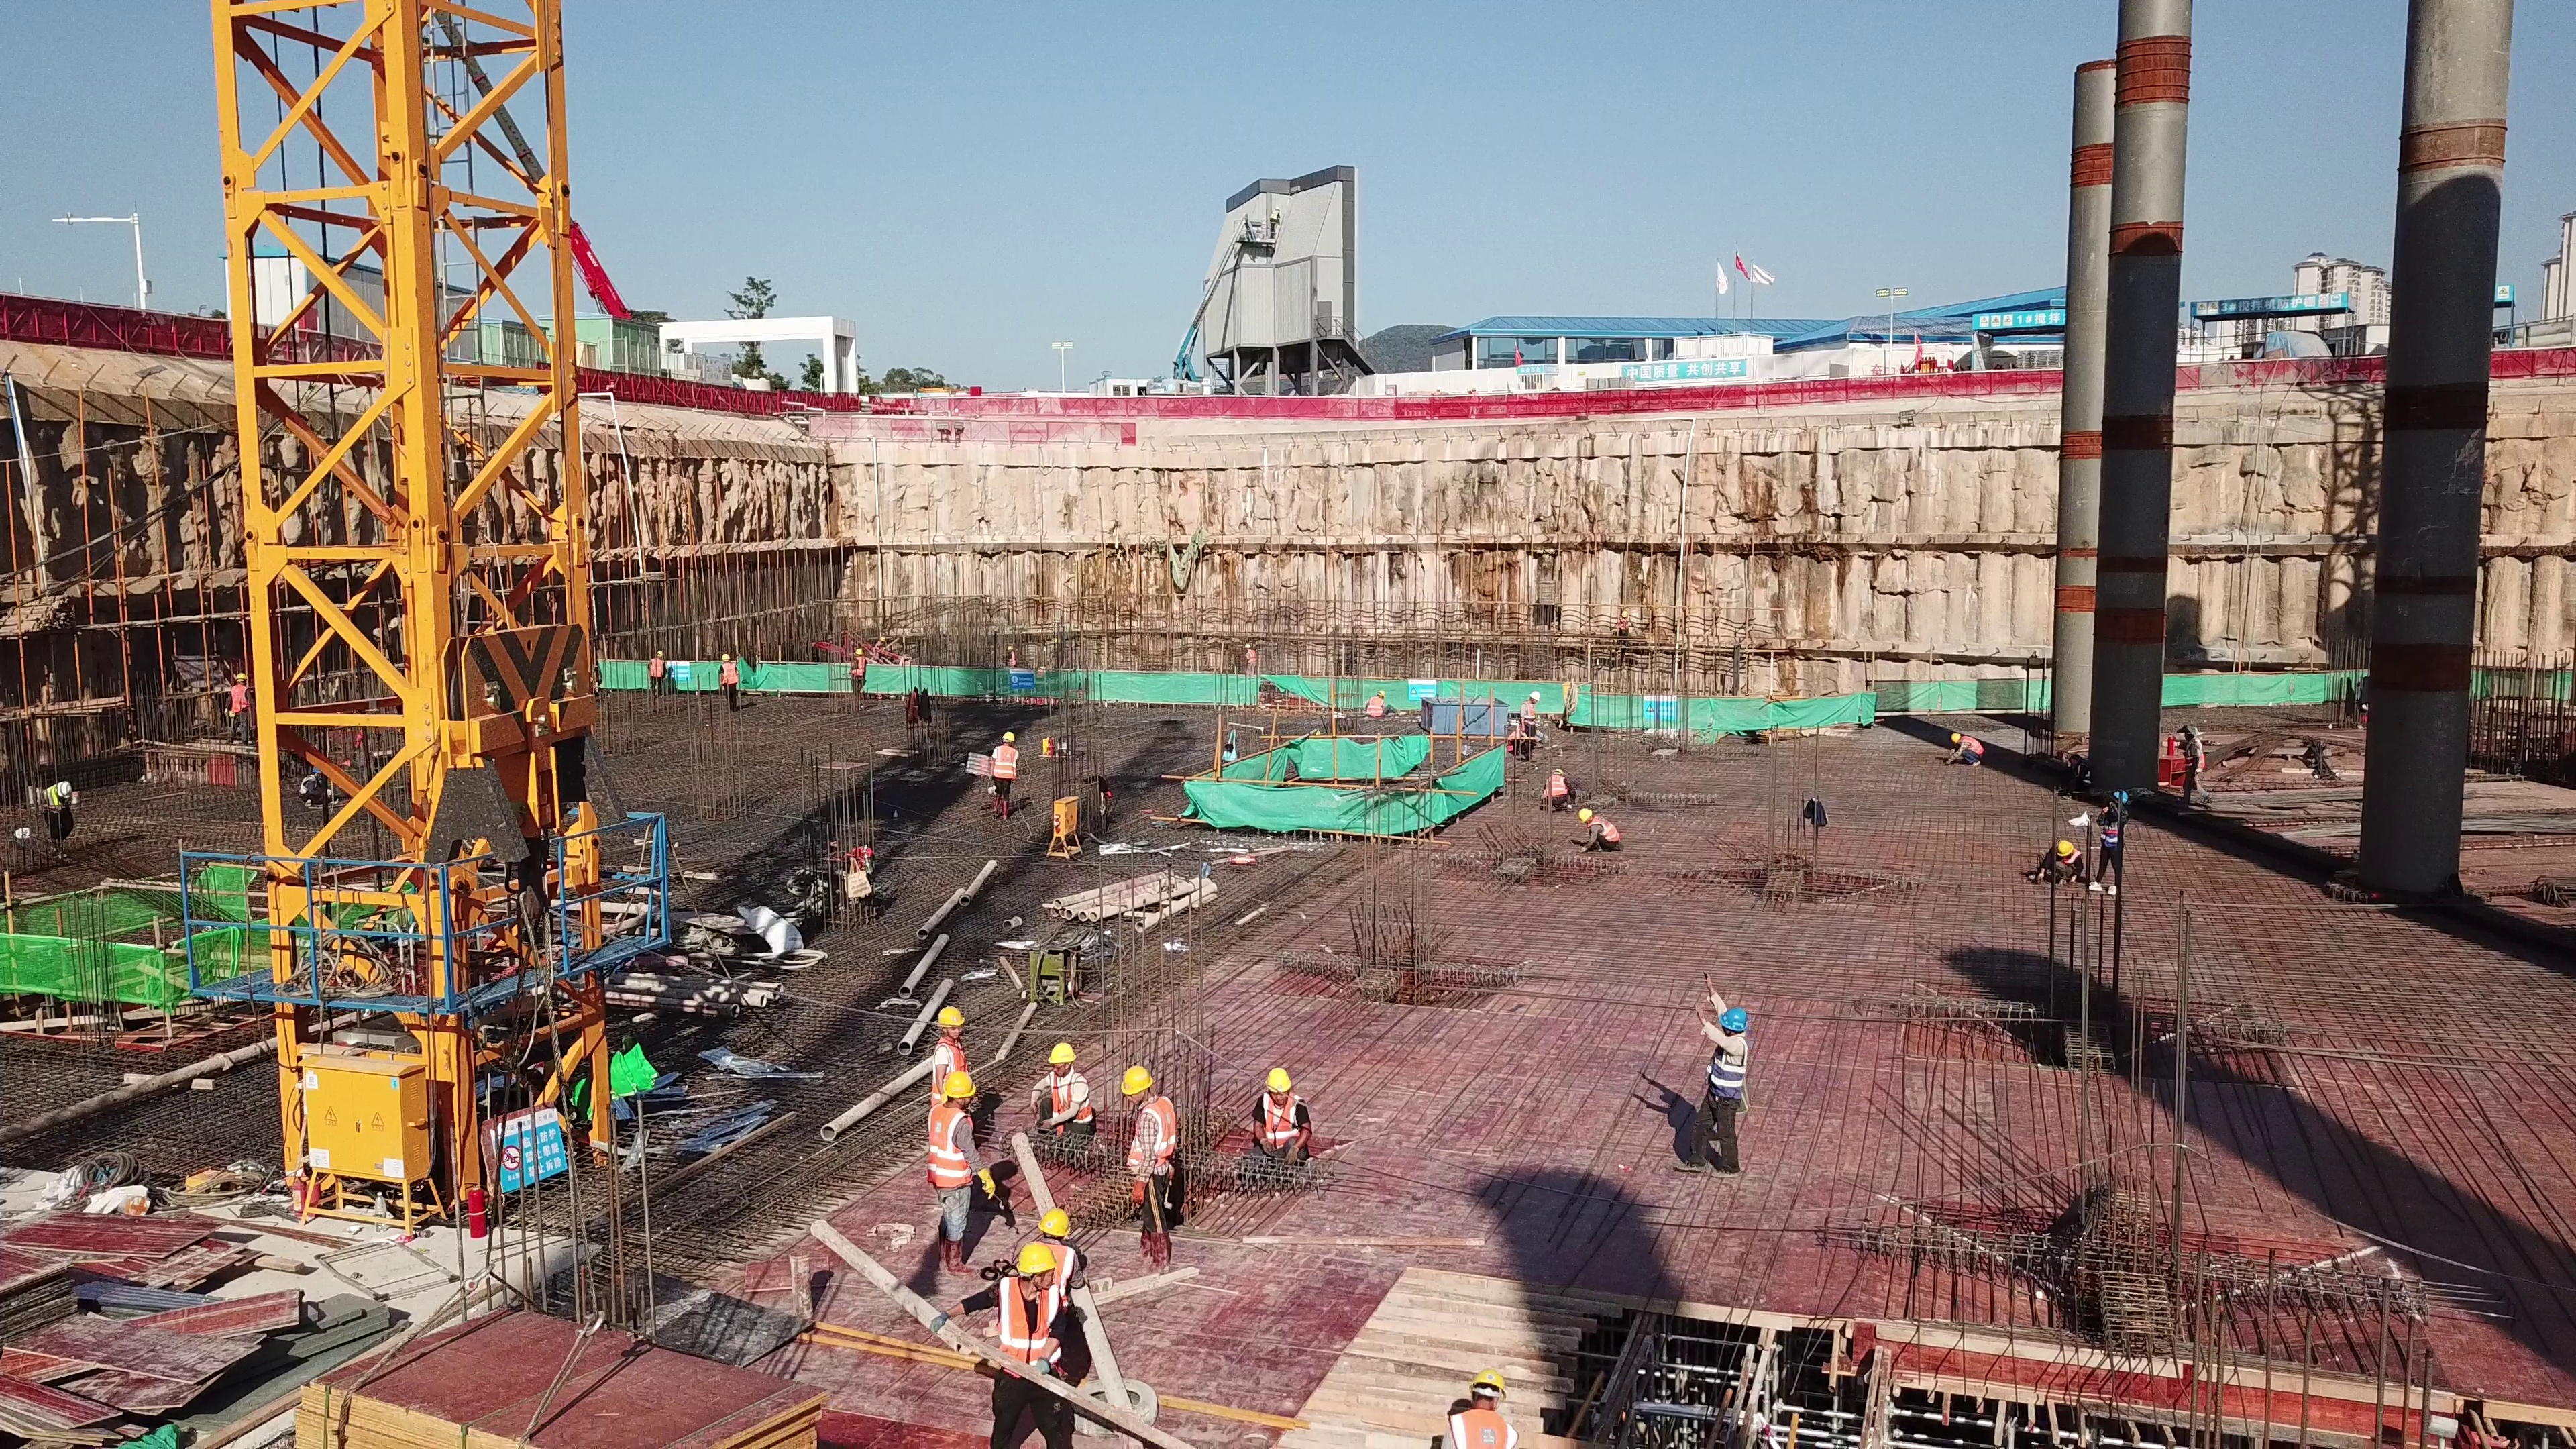board: (320, 1304, 845, 1449), (11, 1193, 280, 1435)
brick: (1585, 374, 1638, 394)
ebox: (280, 1038, 441, 1216), (1043, 794, 1081, 861)
fence: (19, 285, 258, 372), (998, 391, 1431, 424)
helmet: (1457, 1365, 1517, 1395), (1723, 992, 1752, 1032), (942, 1062, 974, 1095), (1042, 1201, 1073, 1231), (1016, 1246, 1051, 1271), (1258, 1063, 1289, 1091), (1120, 1065, 1154, 1086), (1047, 1040, 1082, 1061), (936, 1007, 965, 1027), (2057, 835, 2076, 857), (2112, 790, 2128, 806), (1579, 803, 1595, 821), (999, 729, 1016, 745), (720, 651, 735, 663), (1527, 690, 1542, 702), (1947, 730, 1959, 747), (232, 673, 248, 684), (1552, 768, 1566, 777), (853, 647, 865, 656), (1376, 688, 1387, 698), (657, 649, 665, 656), (311, 766, 323, 771), (881, 636, 888, 643)
hook: (434, 617, 623, 947)
hopper: (1421, 690, 1509, 745)
person: (1686, 969, 1776, 1203), (983, 1240, 1067, 1449), (1117, 1064, 1180, 1273), (1423, 1350, 1525, 1449), (928, 1068, 977, 1275), (1246, 1064, 1328, 1170), (1027, 1042, 1097, 1142), (2094, 786, 2136, 908), (2025, 822, 2097, 890), (34, 772, 85, 862), (2178, 719, 2218, 824), (926, 997, 974, 1080), (983, 729, 1020, 822), (220, 669, 258, 753), (1572, 806, 1626, 860), (1512, 690, 1544, 767), (297, 759, 339, 816), (714, 646, 743, 716), (1538, 767, 1582, 810), (2058, 753, 2096, 800), (1943, 731, 1988, 770), (842, 648, 872, 702), (641, 651, 675, 697), (1609, 609, 1637, 661), (996, 640, 1025, 672), (1364, 686, 1387, 722), (867, 633, 892, 662), (1244, 638, 1262, 676)
slogan: (2187, 292, 2355, 315), (1621, 357, 1749, 377), (1972, 306, 2070, 331)
vest: (998, 1283, 1065, 1376), (927, 1112, 971, 1193), (1126, 1102, 1175, 1173), (1709, 1030, 1758, 1094), (1457, 1403, 1502, 1449), (1052, 1077, 1096, 1122), (1263, 1102, 1303, 1143), (2100, 808, 2127, 855), (991, 747, 1016, 779), (45, 784, 68, 809), (1591, 820, 1619, 842), (2186, 740, 2206, 769), (1545, 779, 1568, 801), (1960, 736, 1983, 758), (722, 662, 739, 688), (298, 773, 315, 797), (649, 657, 666, 678), (231, 684, 246, 708), (1522, 702, 1534, 730), (853, 658, 868, 678), (1366, 698, 1383, 714)
